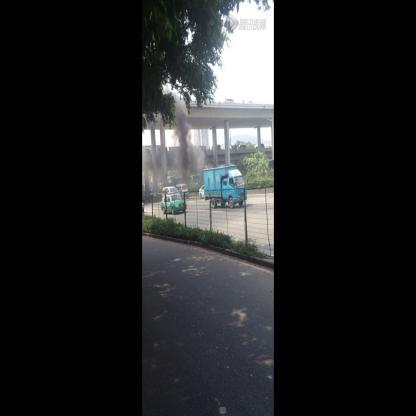smoke: (174, 101, 192, 179), (194, 149, 206, 176)
